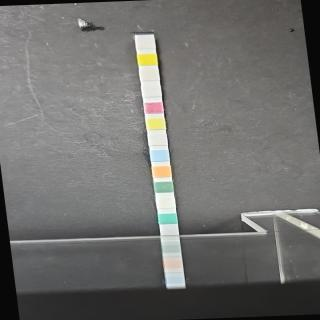mark: (138, 52, 158, 66), (142, 84, 162, 98), (146, 117, 166, 130), (148, 134, 168, 147), (139, 68, 159, 80), (144, 102, 164, 114), (152, 166, 172, 178), (150, 150, 170, 161), (155, 182, 174, 193), (135, 38, 155, 48), (157, 198, 175, 209), (159, 213, 177, 224)
